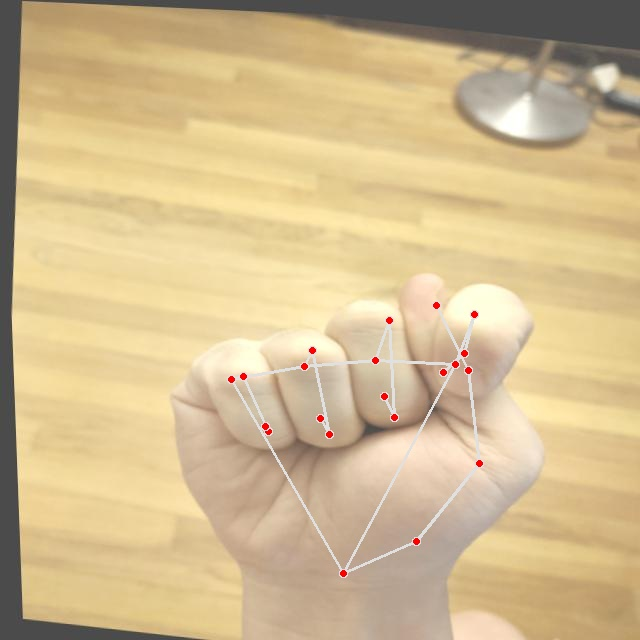T: (138, 233, 574, 610)
